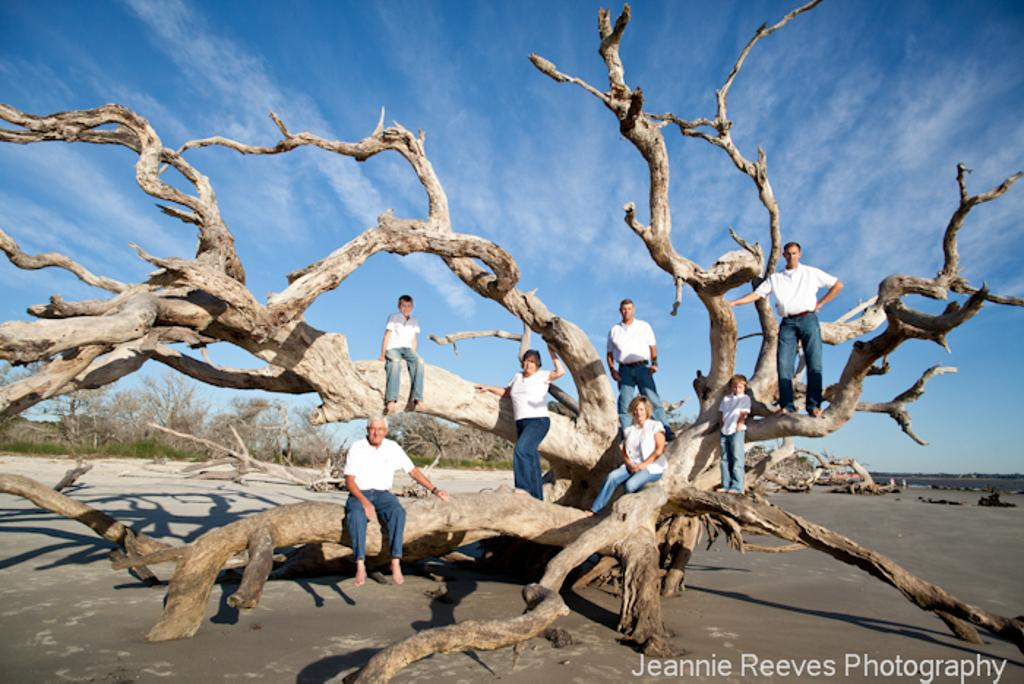face: (369, 421, 384, 443), (523, 355, 537, 372), (785, 246, 798, 264), (634, 402, 646, 420), (621, 304, 632, 319), (400, 301, 411, 315), (732, 383, 744, 394)
